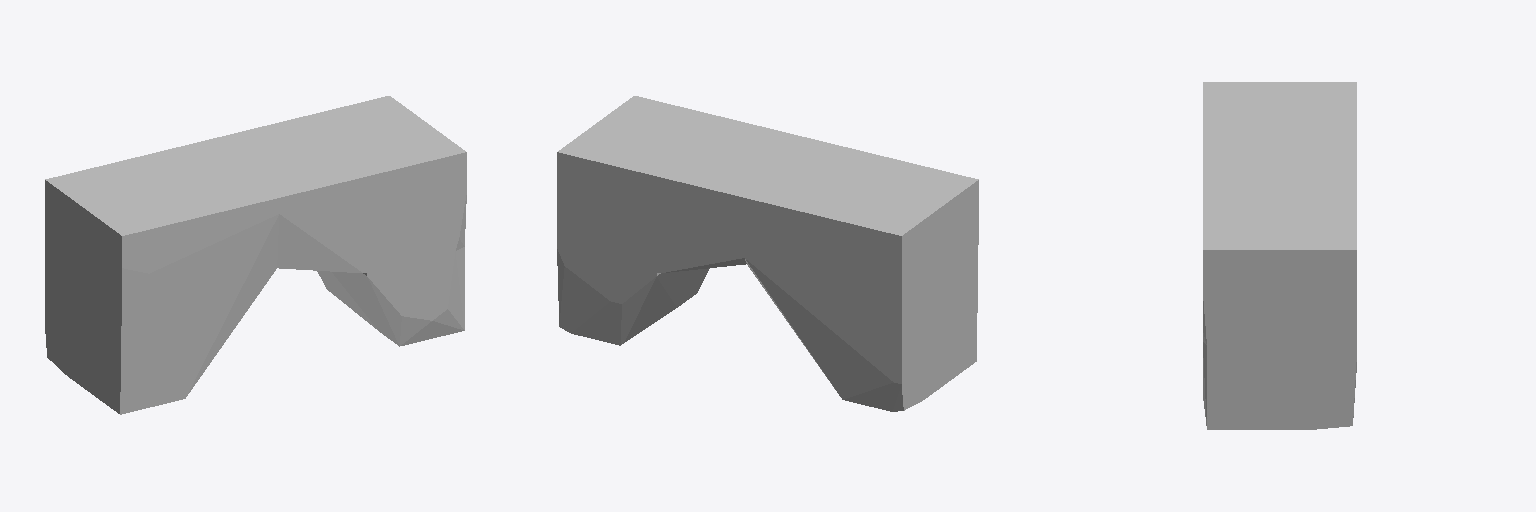
The model's file is Bridge_decimated.obj.
3 views of the same model, side by side, from view 1: azimuth 30°, elevation 25°; view 2: azimuth 150°, elevation 25°; view 3: azimuth 270°, elevation 25° (orthographic).
Visible parts, largest first — view 1: convex_0, convex_2, convex_1; view 2: convex_0, convex_2, convex_1; view 3: convex_2, convex_1, convex_0.
Boxes of the visible parts, box(x1,y1,x2,y2) form: convex_0: box(45, 141, 278, 414); convex_2: box(202, 96, 466, 272); convex_1: box(317, 247, 464, 346); convex_0: box(745, 141, 978, 411); convex_2: box(557, 96, 821, 272); convex_1: box(557, 248, 709, 345); convex_2: box(1203, 158, 1356, 345); convex_1: box(1203, 342, 1356, 429); convex_0: box(1203, 82, 1356, 157).
Size of the model in its own units: 50.43 by 25.22 by 19.61.